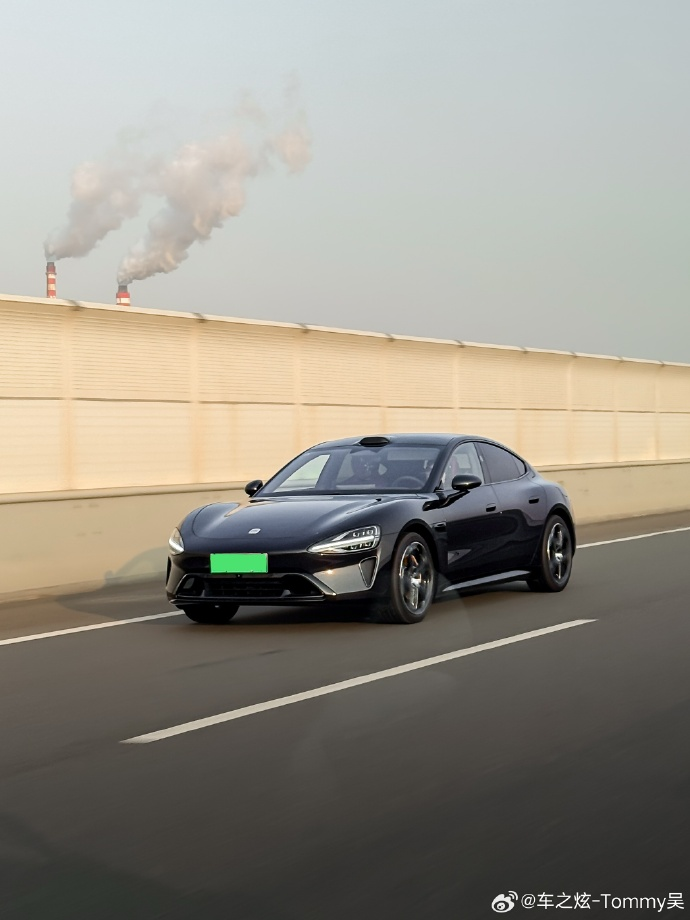su7: (177, 439, 574, 617)
